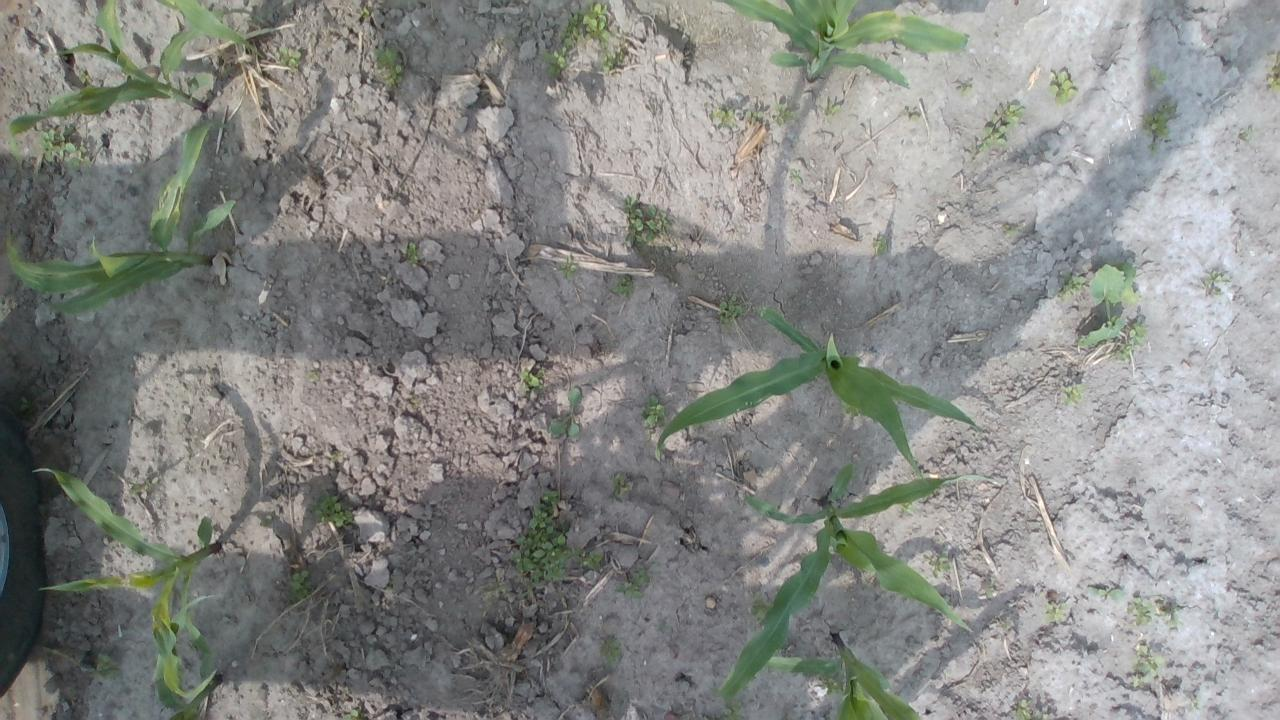Maize: (713, 461, 978, 708), (654, 304, 986, 474), (34, 467, 230, 720), (2, 120, 238, 322), (7, 0, 272, 162), (720, 0, 966, 94), (760, 634, 926, 720)
Weeds: (496, 490, 582, 596), (1076, 261, 1149, 362), (622, 195, 674, 247), (974, 102, 1028, 150), (37, 126, 92, 172), (306, 490, 352, 532), (614, 562, 660, 602), (548, 386, 582, 440), (1142, 100, 1182, 142), (78, 654, 126, 686), (578, 1, 612, 40), (372, 47, 406, 84), (1134, 644, 1167, 682), (1046, 70, 1080, 106), (558, 12, 585, 54), (539, 48, 570, 80), (924, 549, 954, 580), (718, 292, 745, 323), (1158, 599, 1184, 631), (750, 592, 776, 622), (644, 394, 666, 429), (288, 570, 312, 602), (1016, 698, 1050, 720), (610, 474, 634, 505), (126, 475, 158, 498), (1204, 270, 1232, 296), (1264, 50, 1280, 94), (1060, 272, 1086, 298), (610, 272, 636, 298), (1062, 382, 1087, 409), (1132, 597, 1154, 627), (276, 46, 303, 70), (600, 636, 624, 662), (1086, 586, 1128, 600), (1046, 602, 1070, 626), (582, 548, 603, 574), (772, 102, 794, 126), (600, 52, 620, 76), (520, 369, 545, 388), (818, 98, 841, 118), (722, 703, 746, 720), (742, 108, 762, 128), (405, 243, 423, 265), (561, 256, 578, 279), (1002, 222, 1026, 238), (355, 3, 377, 19), (823, 677, 842, 695), (1237, 126, 1256, 144), (873, 236, 891, 255), (842, 400, 862, 417), (901, 110, 922, 126), (956, 77, 975, 94), (716, 108, 734, 125), (1150, 70, 1166, 88), (790, 168, 806, 185), (344, 710, 366, 720), (900, 501, 915, 515), (78, 68, 90, 84)
